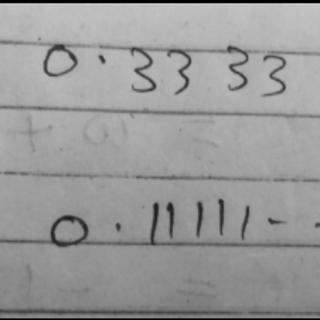.: (94, 51, 110, 68), (109, 218, 125, 233)
0: (50, 213, 91, 250), (41, 41, 80, 79)
1: (166, 201, 178, 241), (239, 206, 252, 239), (217, 196, 226, 237), (152, 199, 160, 244), (197, 199, 206, 238)
3: (165, 44, 195, 95), (129, 46, 160, 95), (263, 53, 290, 99), (227, 41, 249, 97)
